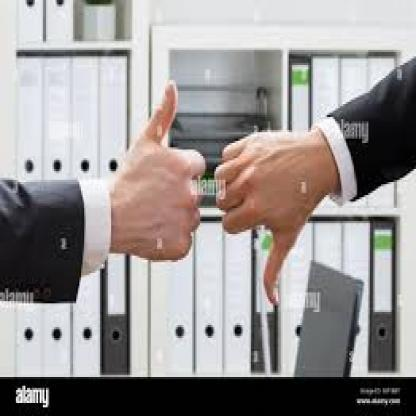thumb_down: (214, 126, 308, 307)
thumb_up: (108, 76, 208, 266)
